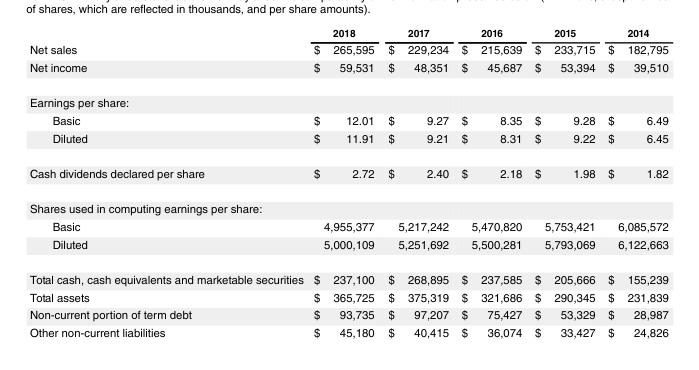table: (28, 28, 667, 339)
table column: (28, 28, 307, 339), (380, 28, 454, 339), (307, 28, 380, 339), (454, 28, 527, 339), (527, 28, 600, 339), (600, 28, 667, 339)
table column header: (28, 28, 667, 41)
table projected row header: (28, 86, 667, 112), (28, 192, 667, 218)
table row: (28, 156, 667, 192), (28, 59, 667, 86), (28, 262, 667, 289), (28, 86, 667, 112), (28, 130, 667, 156), (28, 192, 667, 218), (28, 236, 667, 262), (28, 41, 667, 59), (28, 112, 667, 130), (28, 218, 667, 236), (28, 289, 667, 307), (28, 307, 667, 324), (28, 324, 667, 339), (28, 28, 667, 41)
